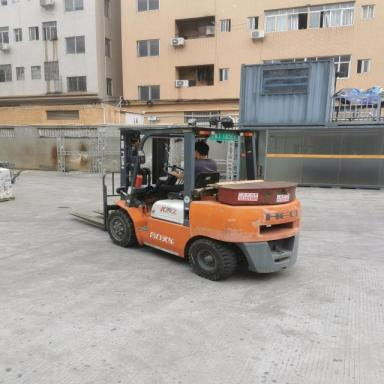forklift: (65, 118, 304, 288)
